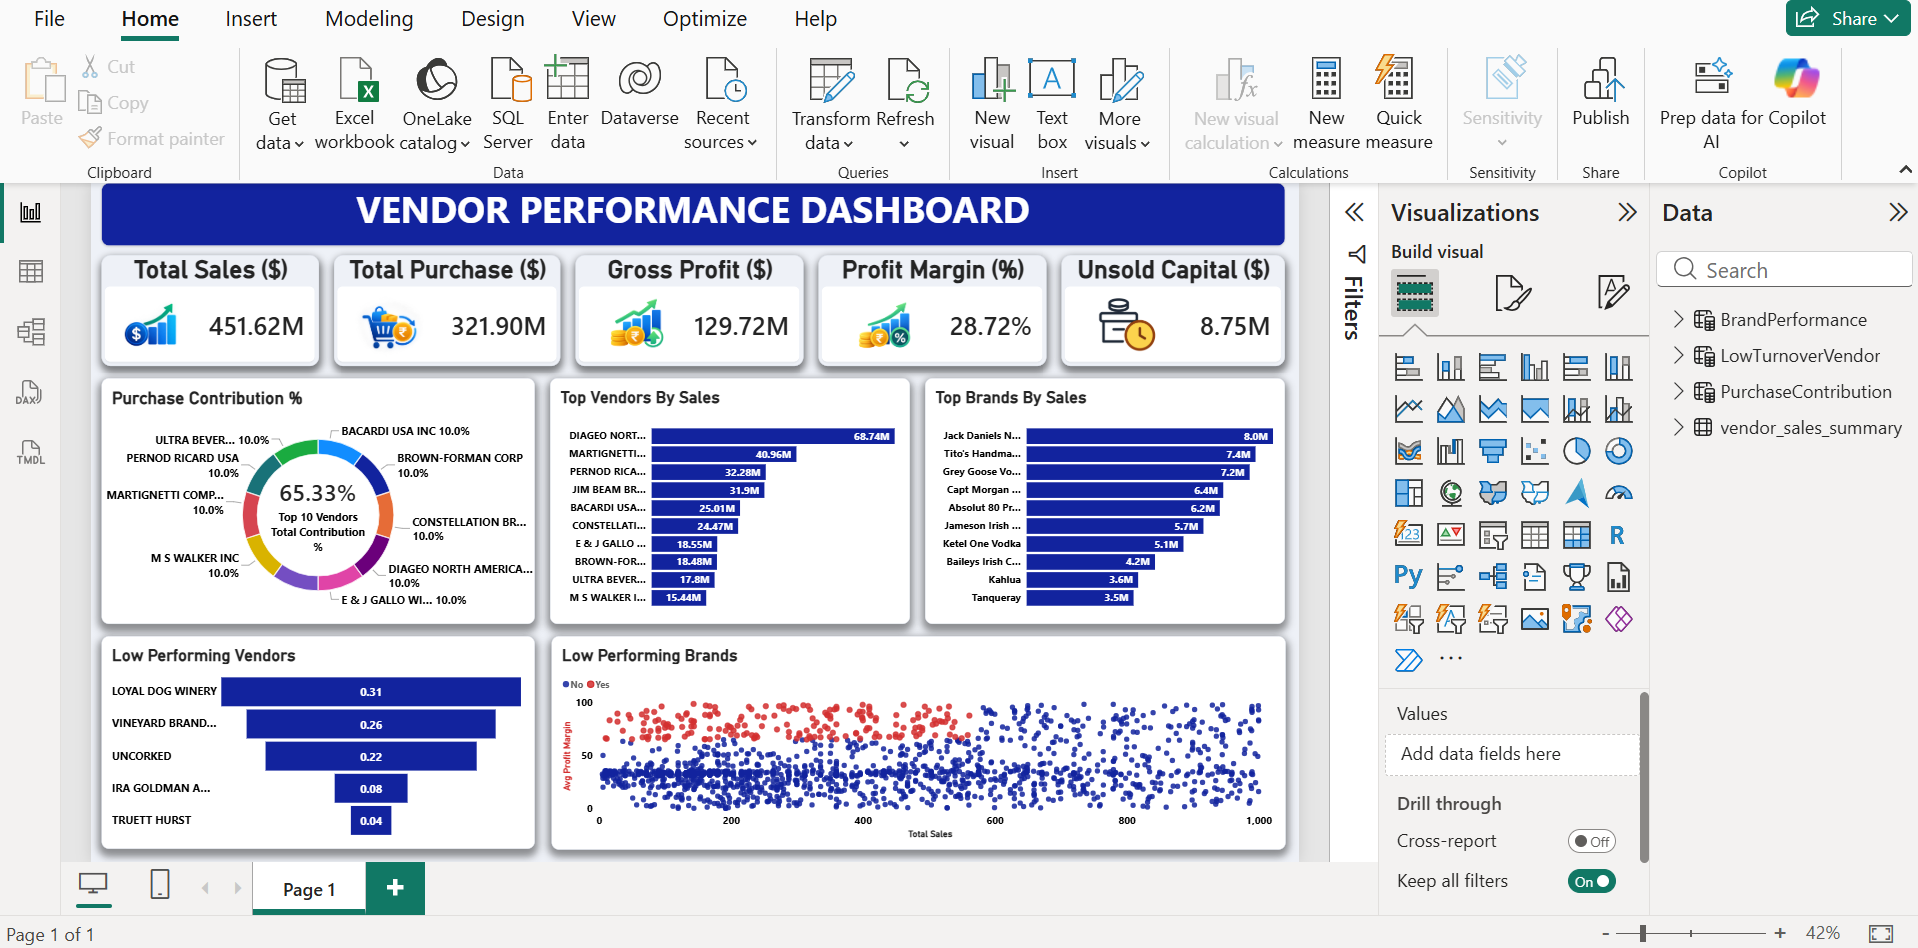

The dashboard page shown, as its layout file describes it:
{"tool":"powerbi","page":{"name":"Page 1","canvas":[1920,1080],"ordinal":0},"visuals":[{"type":"textbox","box":[10,0,280,280],"z":0},{"type":"textbox","box":[10,290,280,280],"z":1000},{"type":"textbox","box":[16.7,0,1882.5,100.2],"z":2000},{"type":"cardVisual","title":"Total Sales ($)","fields":{"Data":["Sum(vendor_sales_summary.Total Sales ($))"]},"box":[16.7,114.5,346,176.6],"z":3000},{"type":"cardVisual","title":"Total Purchase ($)","fields":{"Data":["Sum(vendor_sales_summary.TotalPurchaseDollars)"]},"box":[386.5,114.5,360.3,176.6],"z":4000},{"type":"cardVisual","title":"Gross Profit ($)","fields":{"Data":["Sum(vendor_sales_summary.GrossProfit)"]},"box":[770.7,114.5,362.7,176.6],"z":5000},{"type":"cardVisual","title":"Unsold Capital ($)","fields":{"Data":["Sum(vendor_sales_summary.UnsoldCapital)"]},"box":[1543.7,114.5,355.5,176.6],"z":6000},{"type":"cardVisual","title":"Profit Margin (%)","fields":{"Data":["vendor_sales_summary.Profit Margin (%)"]},"box":[1157.2,114.5,362.7,176.6],"z":7000},{"type":"image","box":[33.4,171.8,116.9,102.6],"z":8000},{"type":"image","box":[410.4,171.8,128.8,107.4],"z":9000},{"type":"image","box":[1197.7,176.6,128.8,107.4],"z":10000},{"type":"image","box":[1591.4,171.8,112.1,102.6],"z":11000},{"type":"image","box":[804.1,171.8,128.8,107.4],"z":12000},{"type":"donutChart","title":"Purchase Contribution %","fields":{"Category":["PurchaseContribution.VendorName"],"Y":["BrandPerformance.Top 10 Contribution %"]},"box":[16.7,310.2,689.5,391.3],"z":13000},{"type":"clusteredBarChart","title":"Top Vendors By Sales","fields":{"Category":["vendor_sales_summary.VendorName"],"Y":["Sum(vendor_sales_summary.Total Sales ($))"]},"box":[730.1,310.2,572.6,391.3],"z":14000},{"type":"clusteredBarChart","title":"Top Brands By Sales","fields":{"Category":["vendor_sales_summary.Description"],"Y":["Sum(vendor_sales_summary.Total Sales ($))"]},"box":[1326.6,310.2,572.6,391.3],"z":15000},{"type":"funnel","title":"Low Performing Vendors","fields":{"Category":["LowTurnoverVendor.VendorName"],"Y":["Avg(LowTurnoverVendor.AvgStockTurnOver)"]},"box":[16.7,720.5,689.5,338.8],"z":16000},{"type":"scatterChart","title":"Low Performing Brands","fields":{"Category":["BrandPerformance.Description"],"X":["Sum(BrandPerformance.TotalSales)"],"Y":["Avg(BrandPerformance.AvgProfitMargin)"],"Series":["BrandPerformance.TargetBrand"]},"box":[731.3,720,1167.9,340.2],"z":17000}]}

Visuals, with their boxes on the page's 1920x1080 design canvas (x1, y1, x2, y2). These are canvas units, not pixel positions in the 1918x948 screenshot, which may show the page scaled, cropped or inside an application window:
textbox: 10 0 290 280
textbox: 10 290 290 570
textbox: 17 0 1899 100
"Total Sales ($)" cardVisual: 17 114 363 291
"Total Purchase ($)" cardVisual: 386 114 747 291
"Gross Profit ($)" cardVisual: 771 114 1133 291
"Unsold Capital ($)" cardVisual: 1544 114 1899 291
"Profit Margin (%)" cardVisual: 1157 114 1520 291
image: 33 172 150 274
image: 410 172 539 279
image: 1198 177 1326 284
image: 1591 172 1704 274
image: 804 172 933 279
"Purchase Contribution %" donutChart: 17 310 706 702
"Top Vendors By Sales" clusteredBarChart: 730 310 1303 702
"Top Brands By Sales" clusteredBarChart: 1327 310 1899 702
"Low Performing Vendors" funnel: 17 720 706 1059
"Low Performing Brands" scatterChart: 731 720 1899 1060
